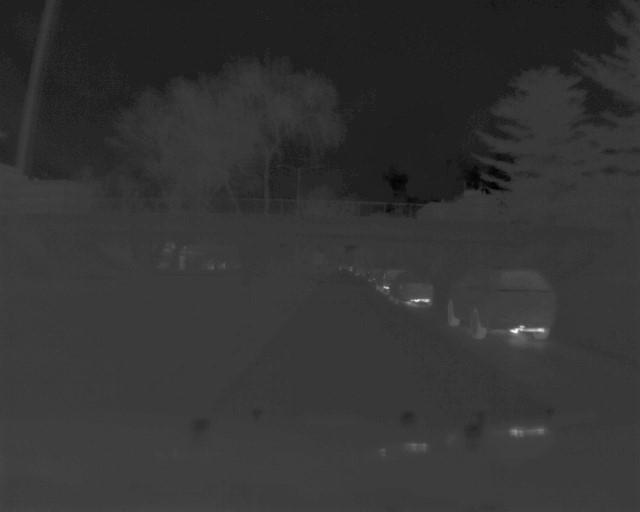car: (446, 268, 554, 345), (389, 268, 437, 308)
